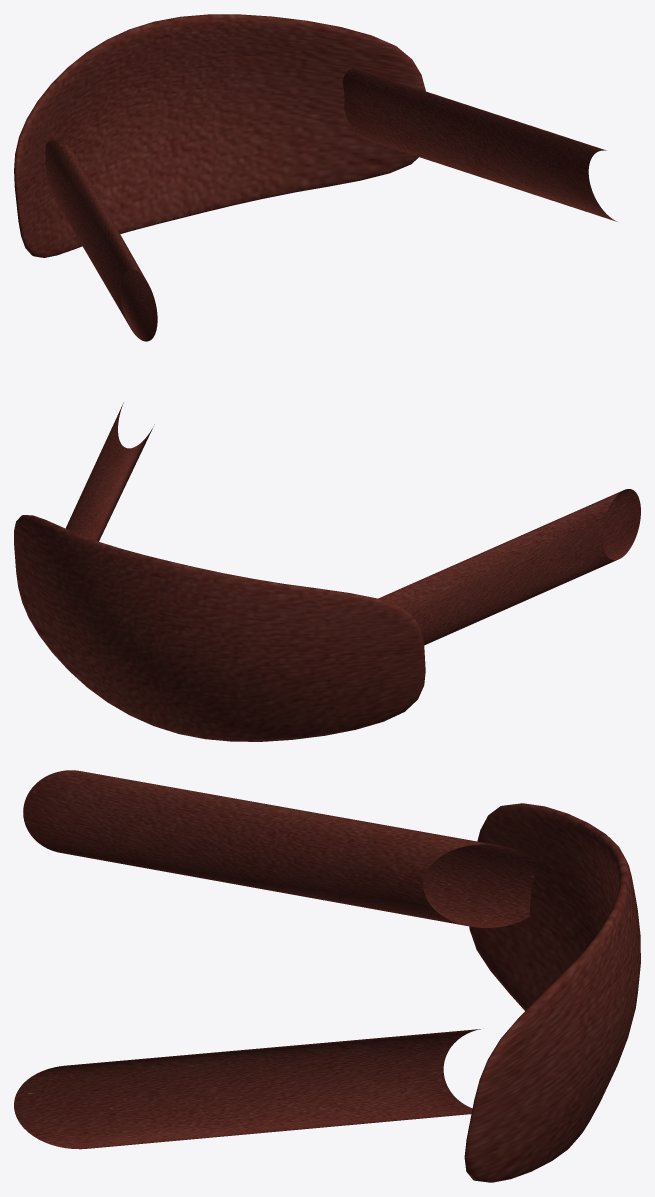
File: slingElastic.obj
3 views of the same model, one above another, from view 1: azimuth 30°, elevation 25°; view 2: azimuth 150°, elevation 25°; view 3: azimuth 270°, elevation 25° (orthographic). The views are drawn at different scales.
Parts seen in each view (by area): view 1: Cylinder005_Mesh.018; view 2: Cylinder005_Mesh.018; view 3: Cylinder005_Mesh.018.
Part boxes in pixels (x1,y1,x2,y2): Cylinder005_Mesh.018: (14, 14, 617, 341); Cylinder005_Mesh.018: (14, 402, 640, 741); Cylinder005_Mesh.018: (14, 770, 640, 1182).
Size of the model in its own units: 8.2 by 3.03 by 7.32.
